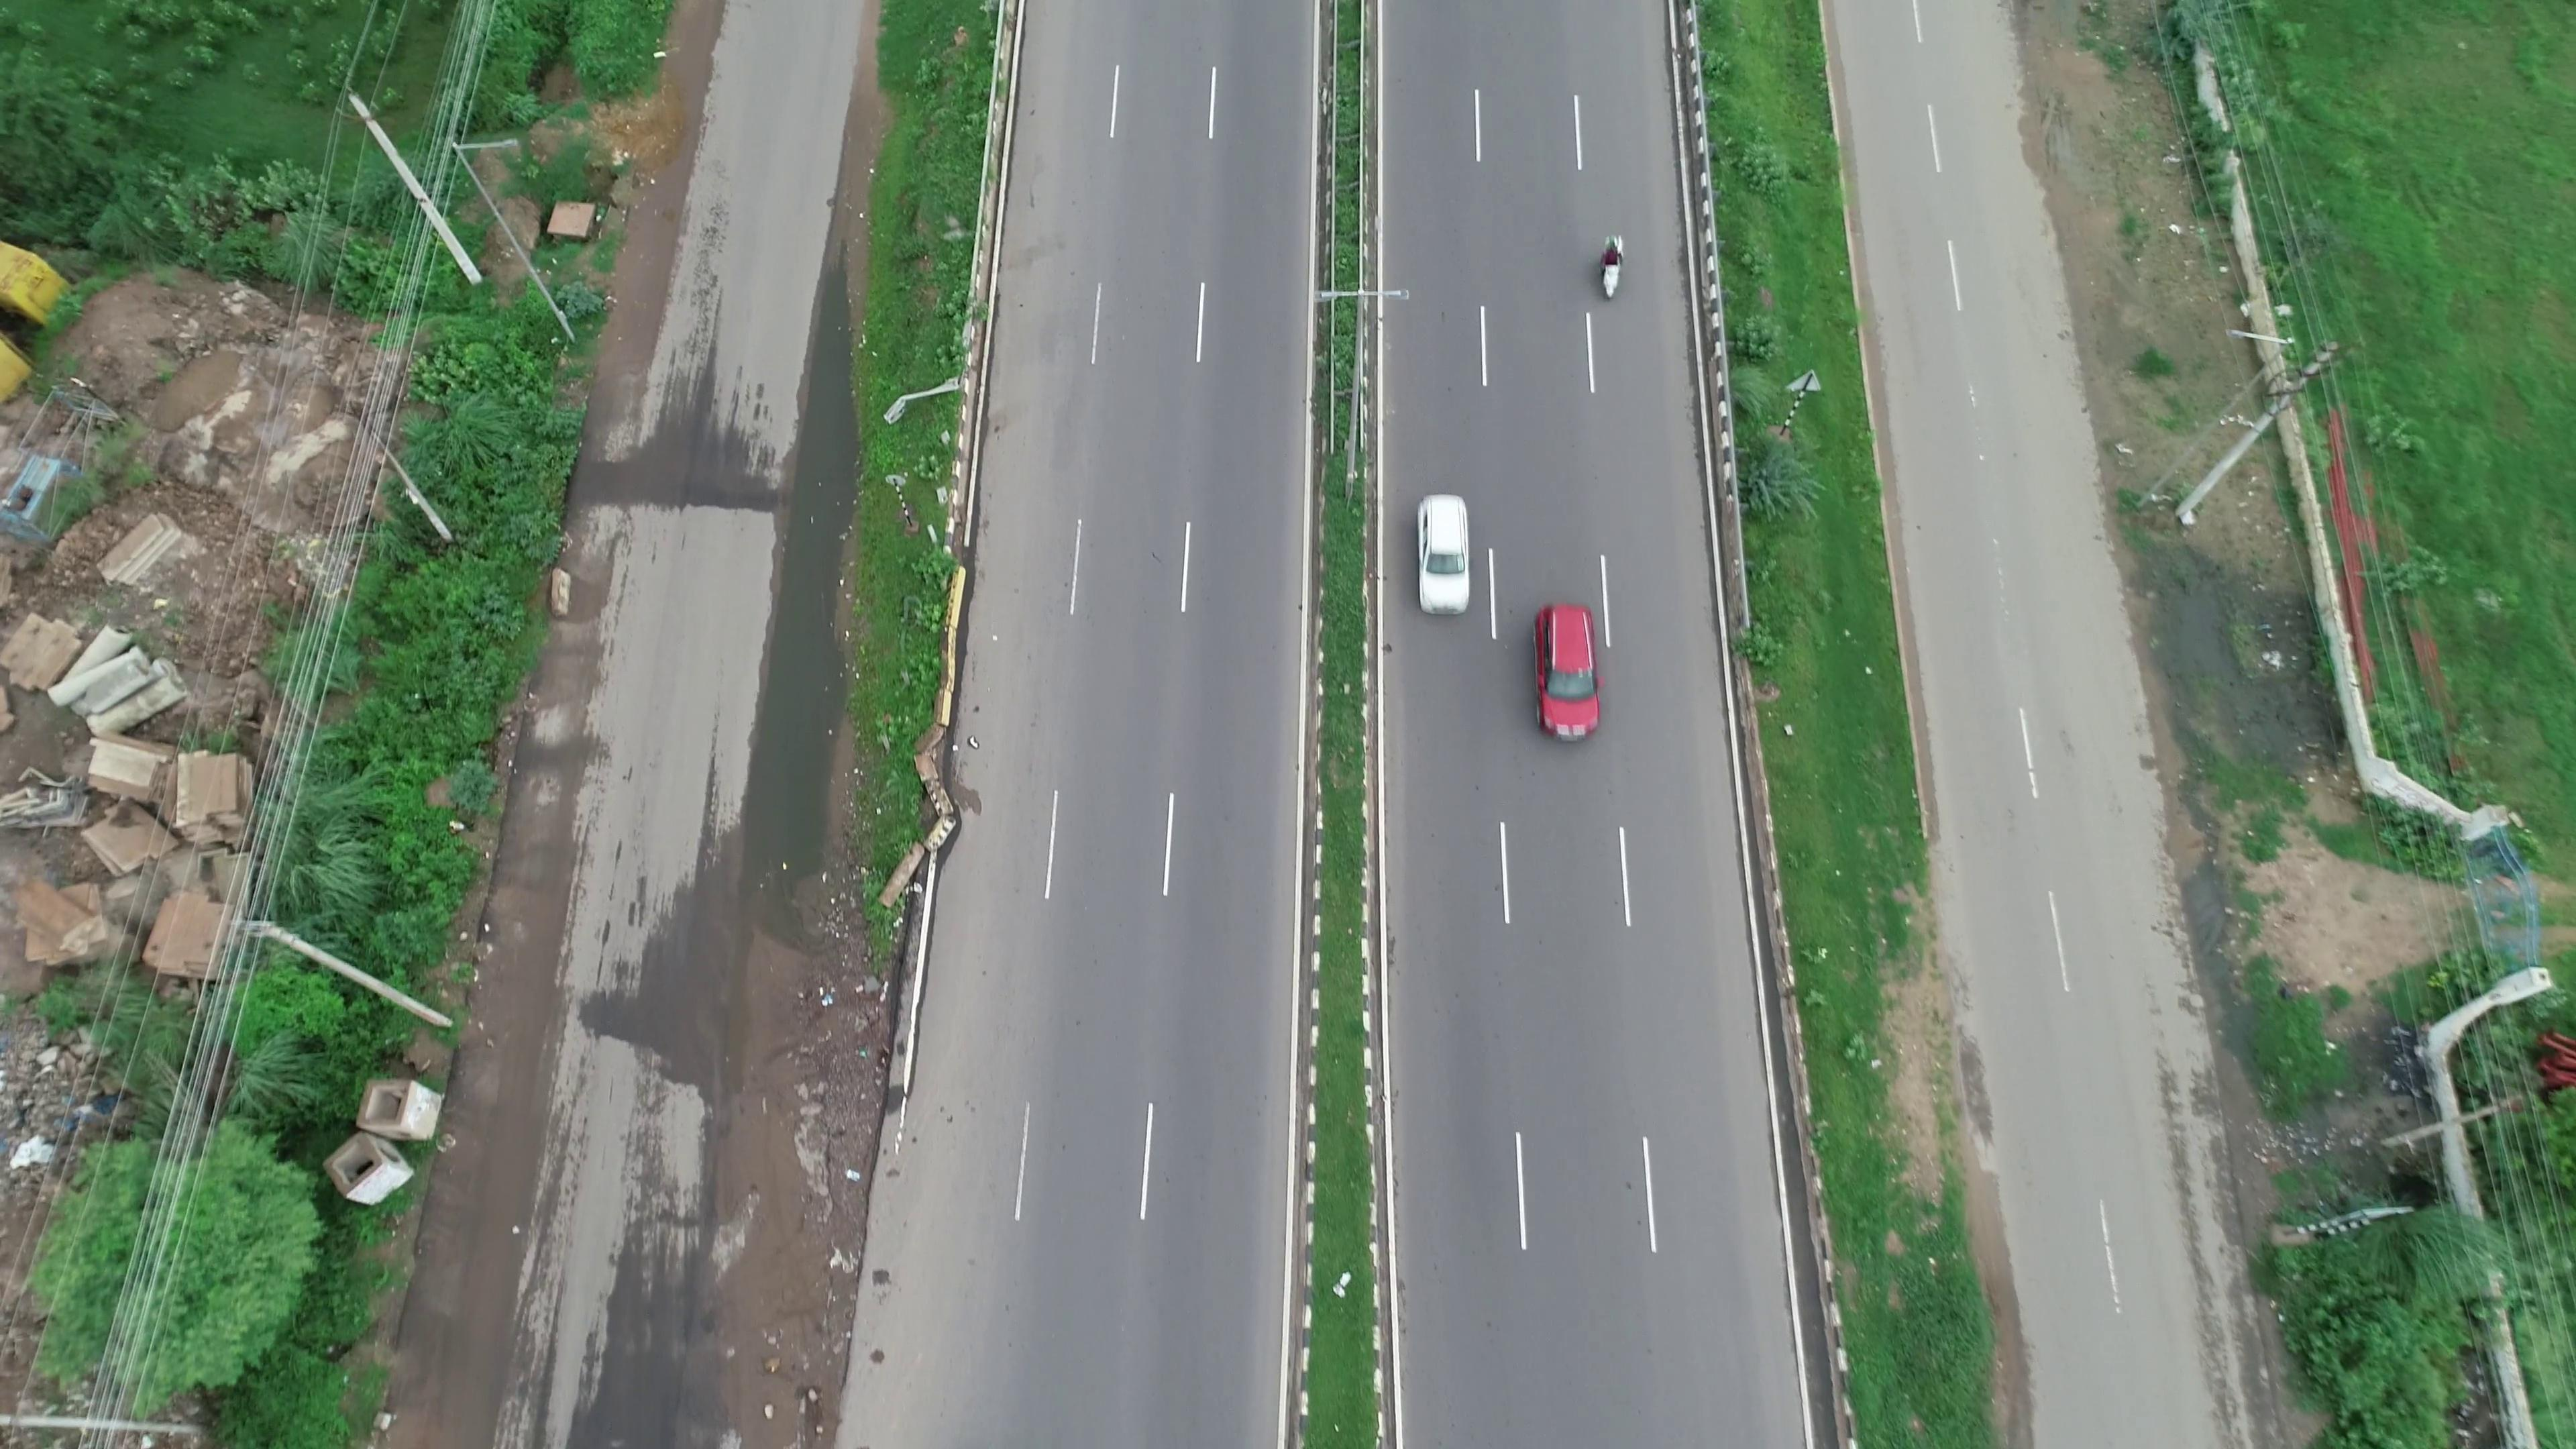Waterlogging: (725, 265, 863, 879)
